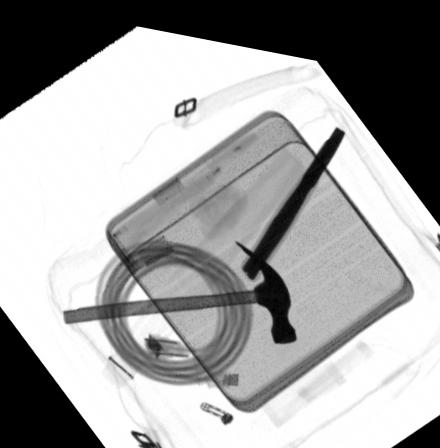Hammer: (63, 231, 296, 333)
Pliers: (242, 113, 346, 270)
